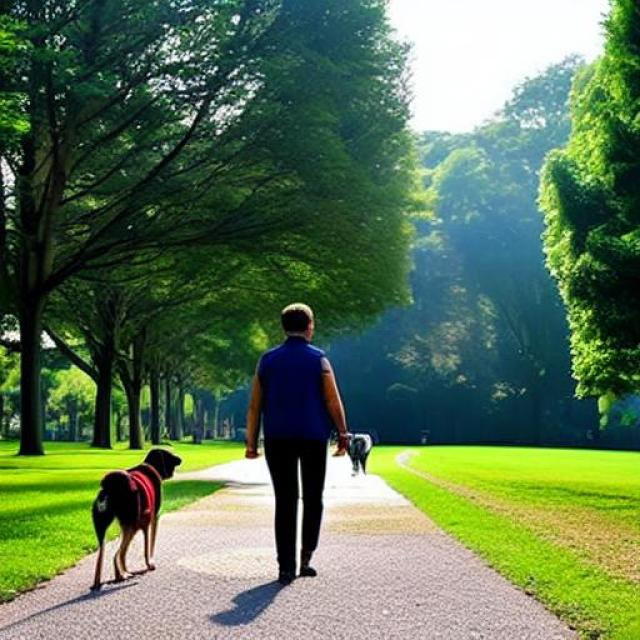Unleashed_Dog: (90, 426, 326, 594)
